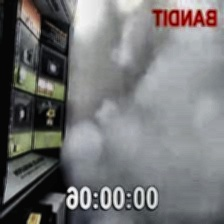smoke: (57, 3, 222, 201)
